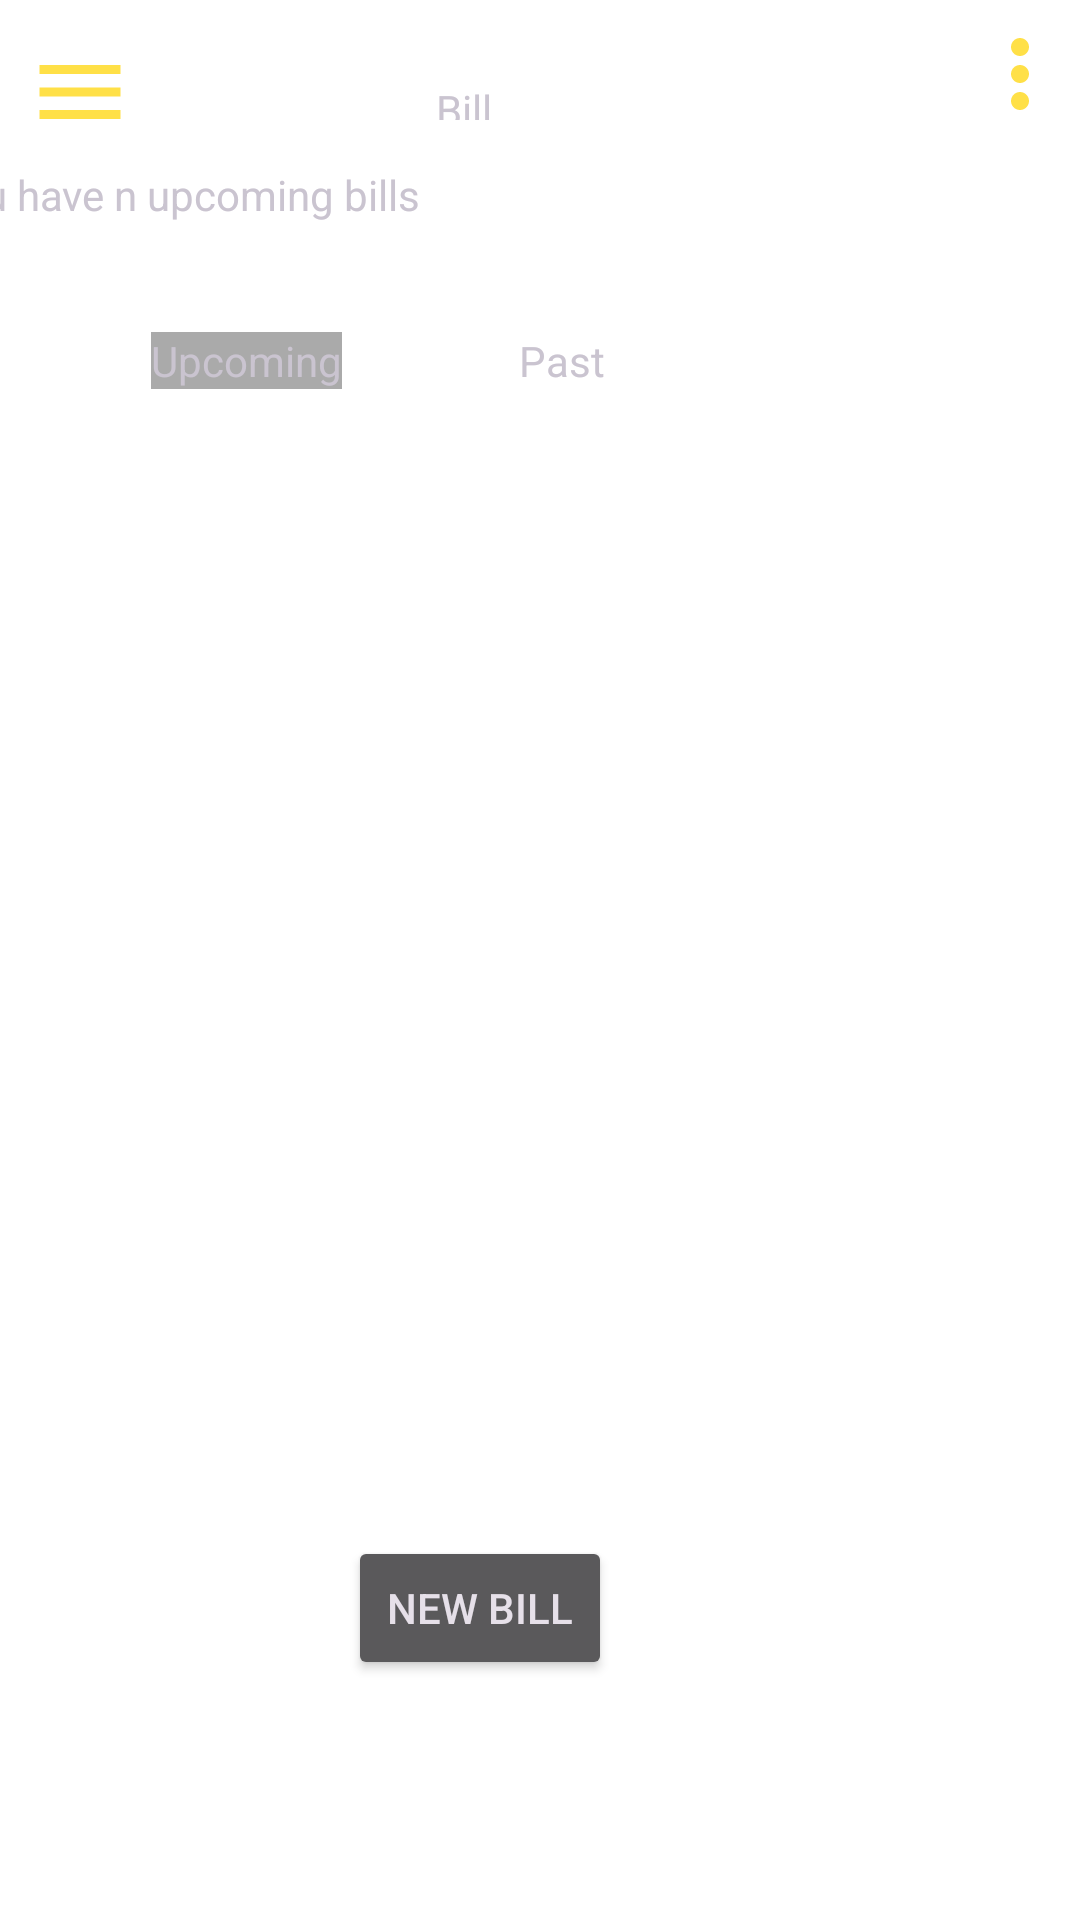

Named icons in this screenshot (1080×1920) and their centers, [x,y]:
Hamburger Menu: [80,92]
more vert: [1020,74]
